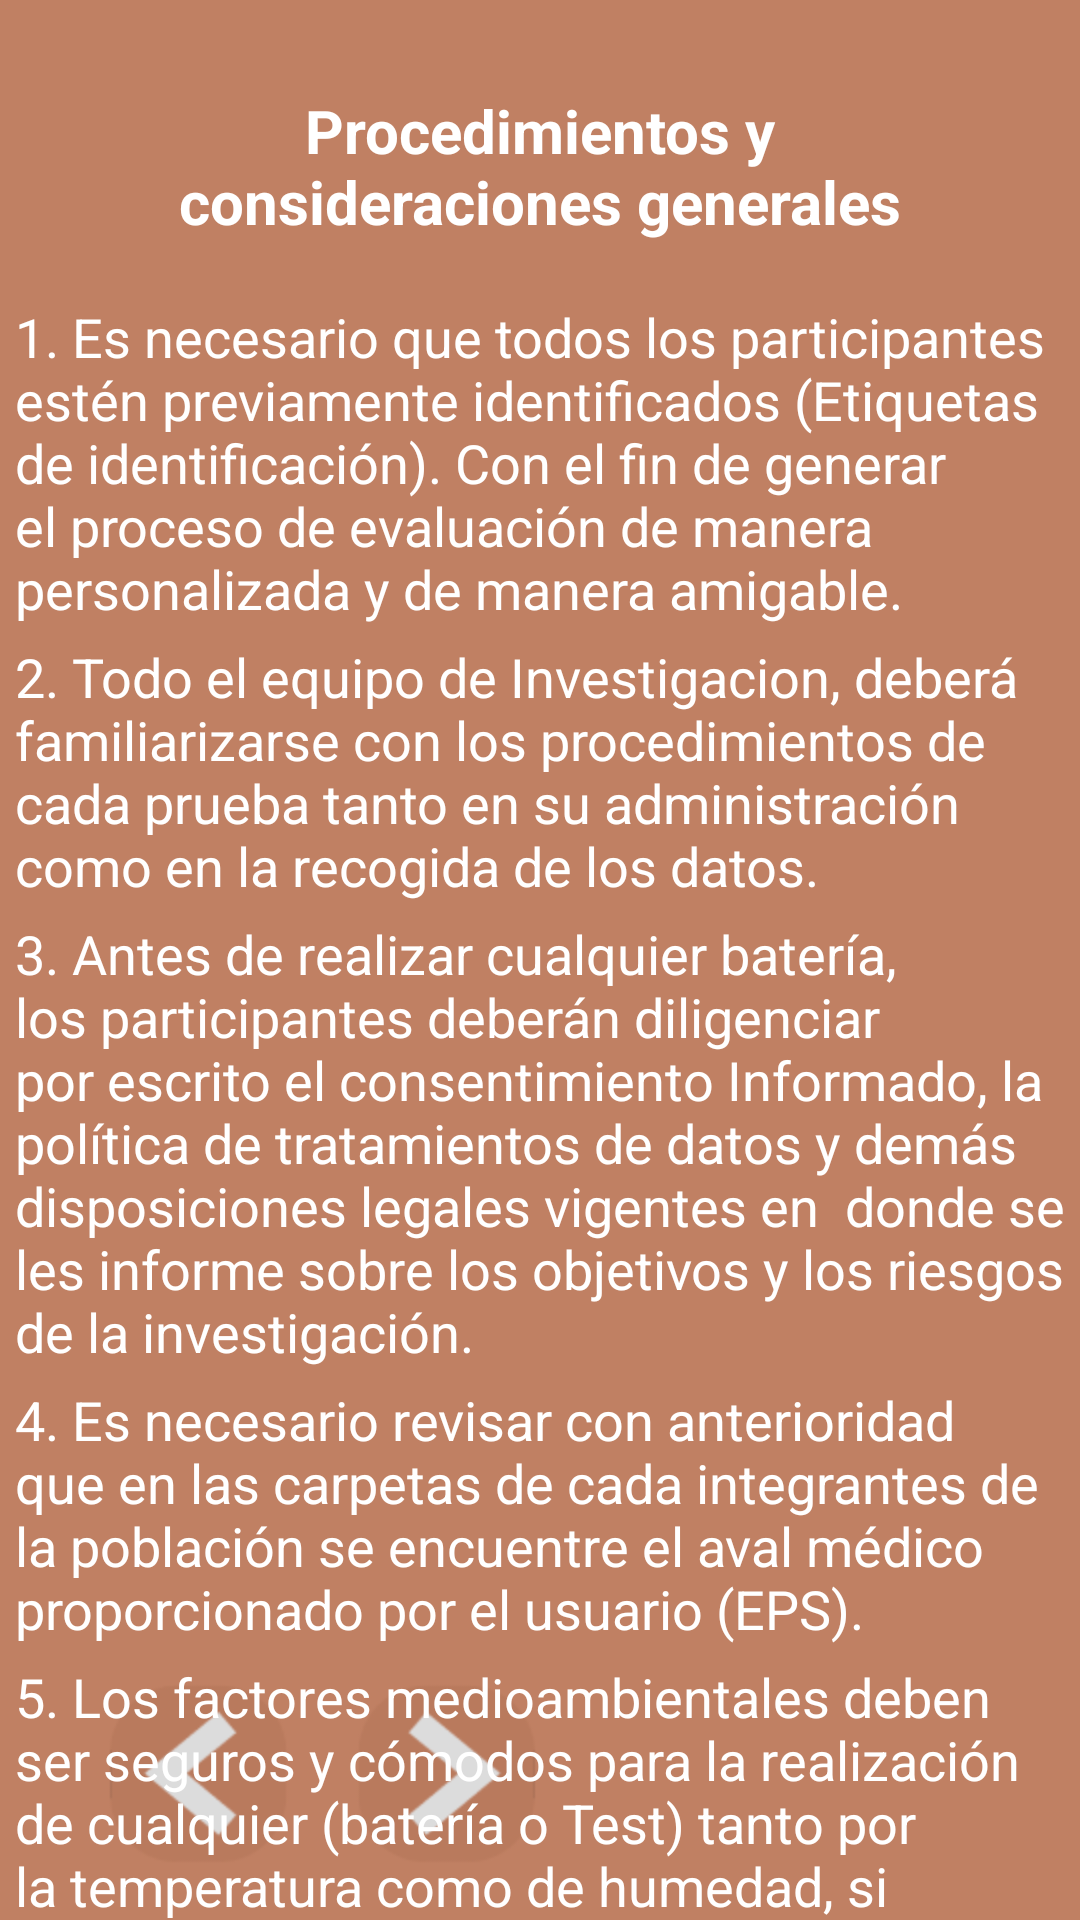

Named icons in this screenshot (1080 x 1920) and their bounding boxes, [left=x1, top=y1, right=x2, bottom=y2]:
regresar: [left=103, top=1677, right=295, bottom=1855]
seguir: [left=343, top=1677, right=547, bottom=1845]
